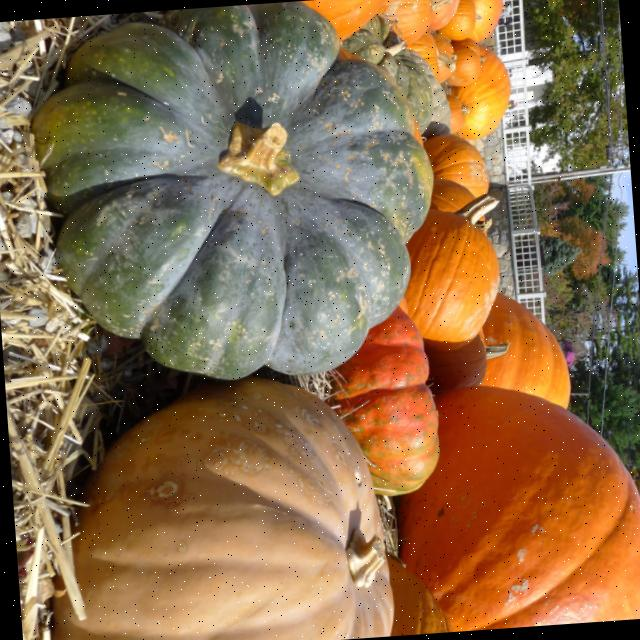pumpkin: (398, 386, 640, 632), (332, 308, 437, 496), (404, 194, 499, 347), (481, 293, 568, 408), (451, 46, 510, 140), (423, 330, 507, 392), (386, 556, 451, 636), (423, 134, 486, 198), (302, 0, 384, 40), (379, 0, 451, 44), (406, 32, 454, 78), (446, 39, 485, 86), (436, 0, 481, 40), (429, 178, 473, 212), (469, 0, 502, 42), (428, 0, 459, 30), (445, 94, 468, 133), (431, 34, 456, 69), (474, 216, 491, 232), (437, 64, 452, 82)
